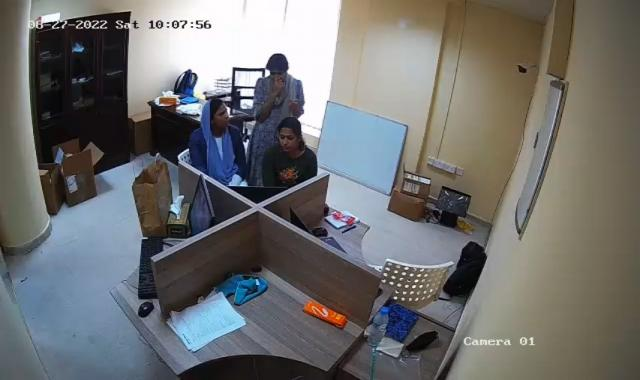no_hairnet: (198, 97, 228, 132), (276, 120, 305, 154), (264, 50, 290, 87)
